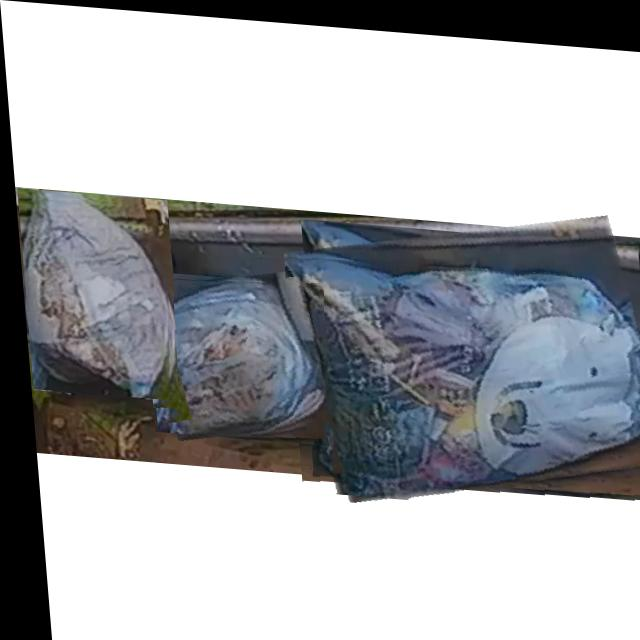other_trashbag: (281, 253, 640, 493), (141, 277, 321, 435), (19, 199, 164, 395)
